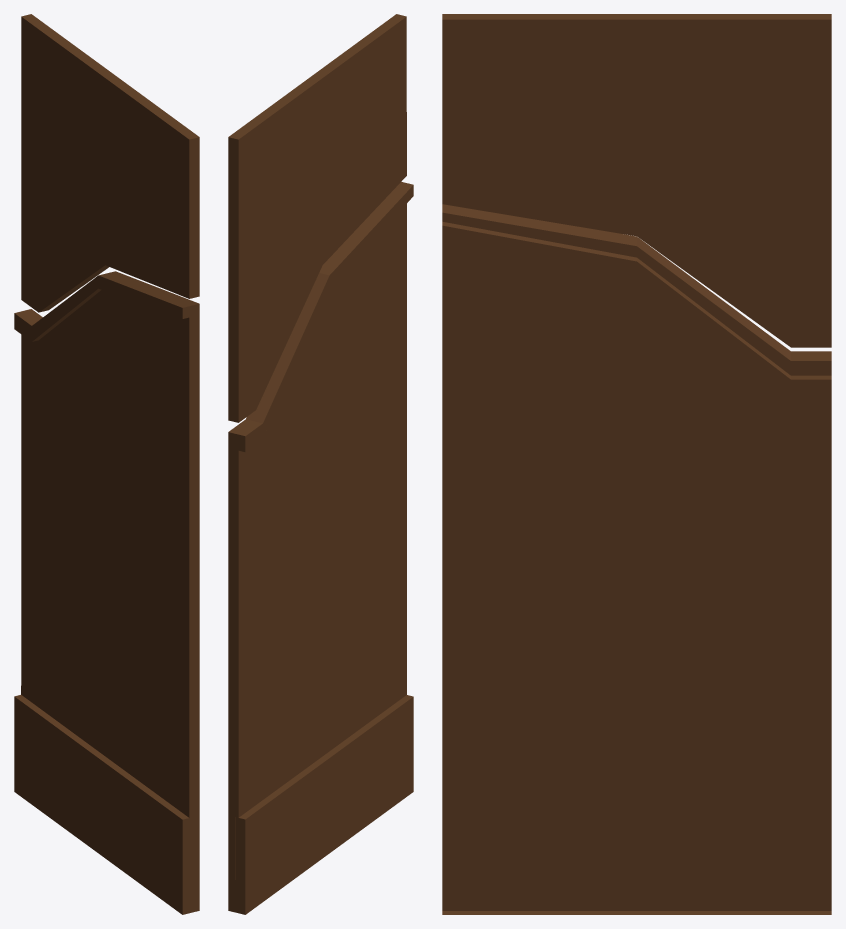
The model's file is двері.fbx.
3 renders of one model, left to right at view 1: azimuth 30°, elevation 25°; view 2: azimuth 150°, elevation 25°; view 3: azimuth 270°, elevation 25°, orthographic. The views are drawn at different scales.
Visible parts, largest first — view 1: трім.012; view 2: трім.012; view 3: трім.012.
Boxes of the visible parts, x1=… form: трім.012: x1=14, y1=14, x2=199, y2=914; трім.012: x1=228, y1=14, x2=413, y2=914; трім.012: x1=442, y1=14, x2=831, y2=914.
Bounding box in the file's own units: 38.85 × 2.29 × 98.55.
